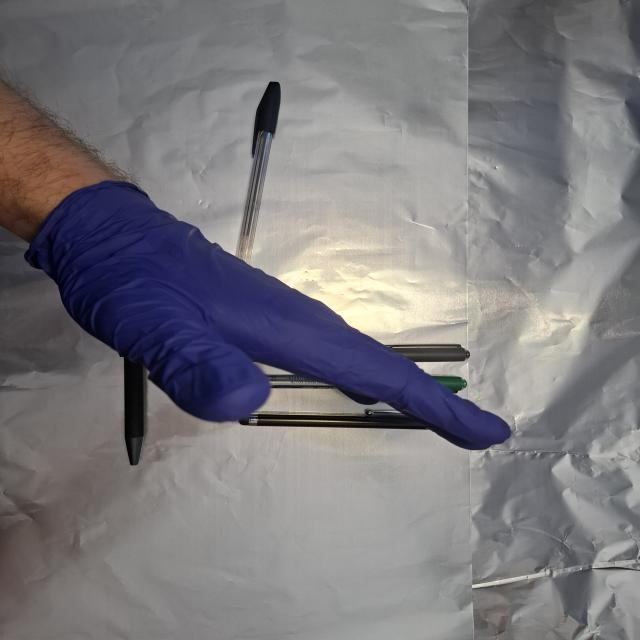glove_on: (27, 178, 516, 453)
